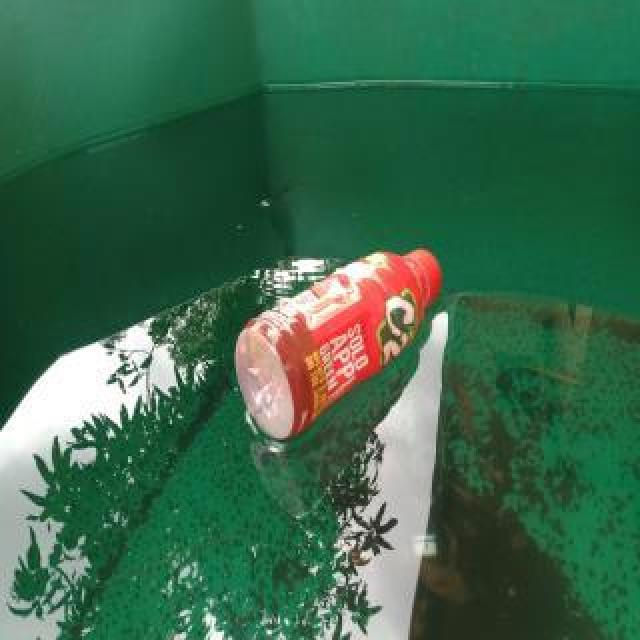bottle: (232, 243, 442, 443)
